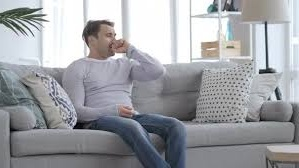not_fallen: (68, 14, 193, 168)
